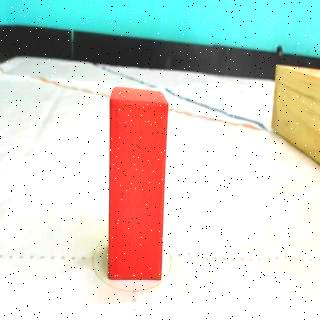redbox: (108, 85, 169, 282)
